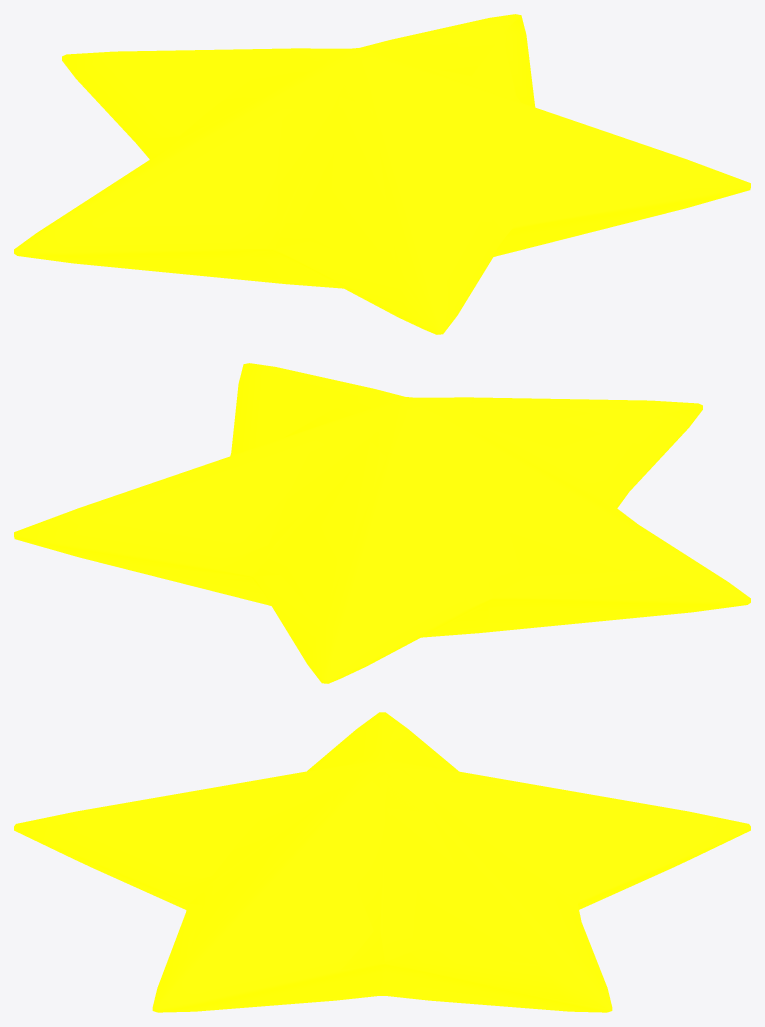
The model's file is Star.fbx.
3 renders of one model, top to bottom at view 1: azimuth 30°, elevation 25°; view 2: azimuth 150°, elevation 25°; view 3: azimuth 270°, elevation 25°, orthographic. The views are drawn at different scales.
Parts seen in each view (by area): view 1: Star.001; view 2: Star.001; view 3: Star.001.
Boxes of the visible parts, x1,y1,x2,y2 form: Star.001: [14, 14, 750, 334]; Star.001: [14, 363, 750, 683]; Star.001: [14, 712, 750, 1012].
Size of the model in its own units: 4914 by 1746 by 5167.
